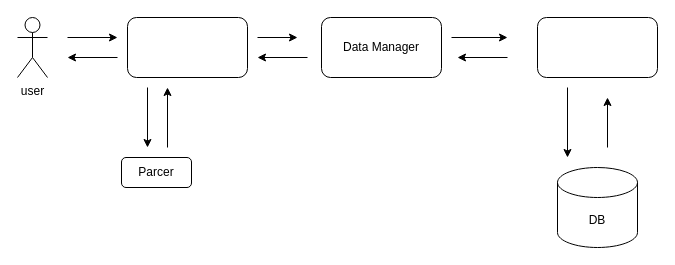
This 675x265 diagram has some shape labels left out. The shapes that lost their labels are listed below. From the top down, each one's box as (x1, y1, x2, y2) in pixels, then its label:
(126, 16, 248, 78): I/O Manager
(536, 16, 658, 78): instructor
